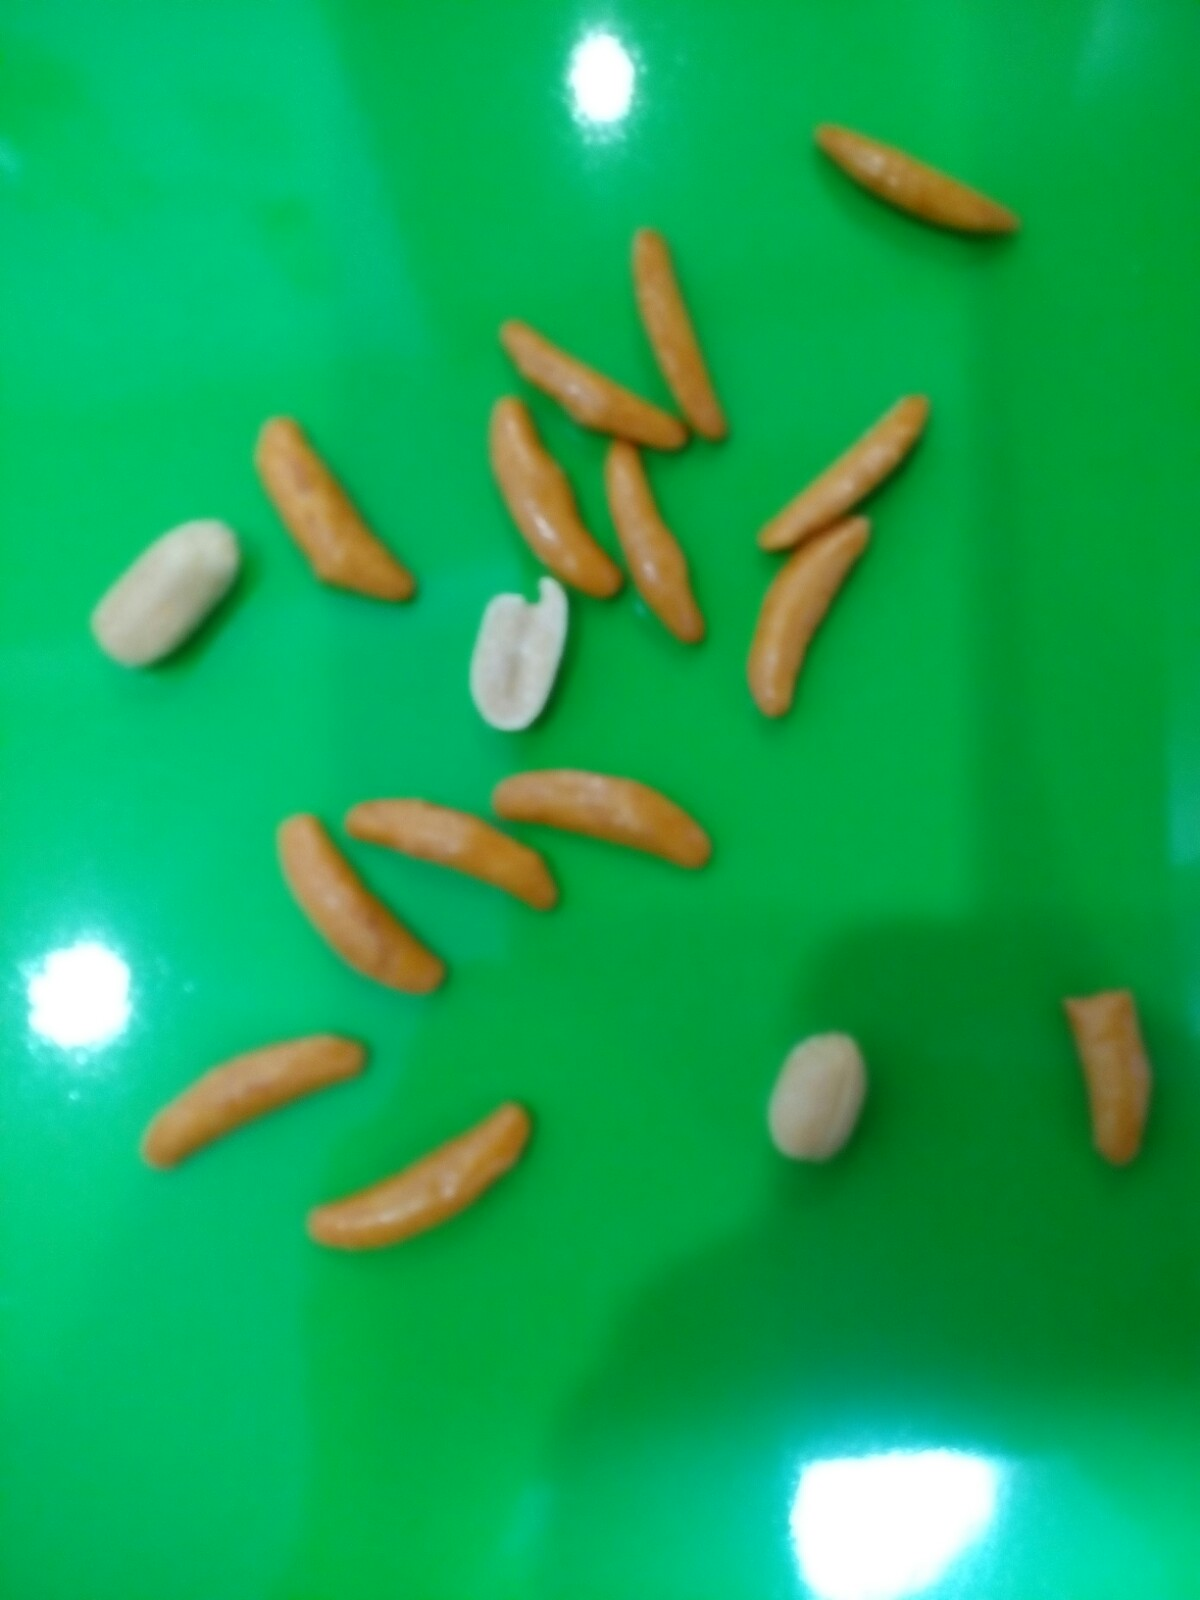peanut: (71, 508, 250, 671), (458, 569, 582, 738), (754, 1015, 882, 1175)
